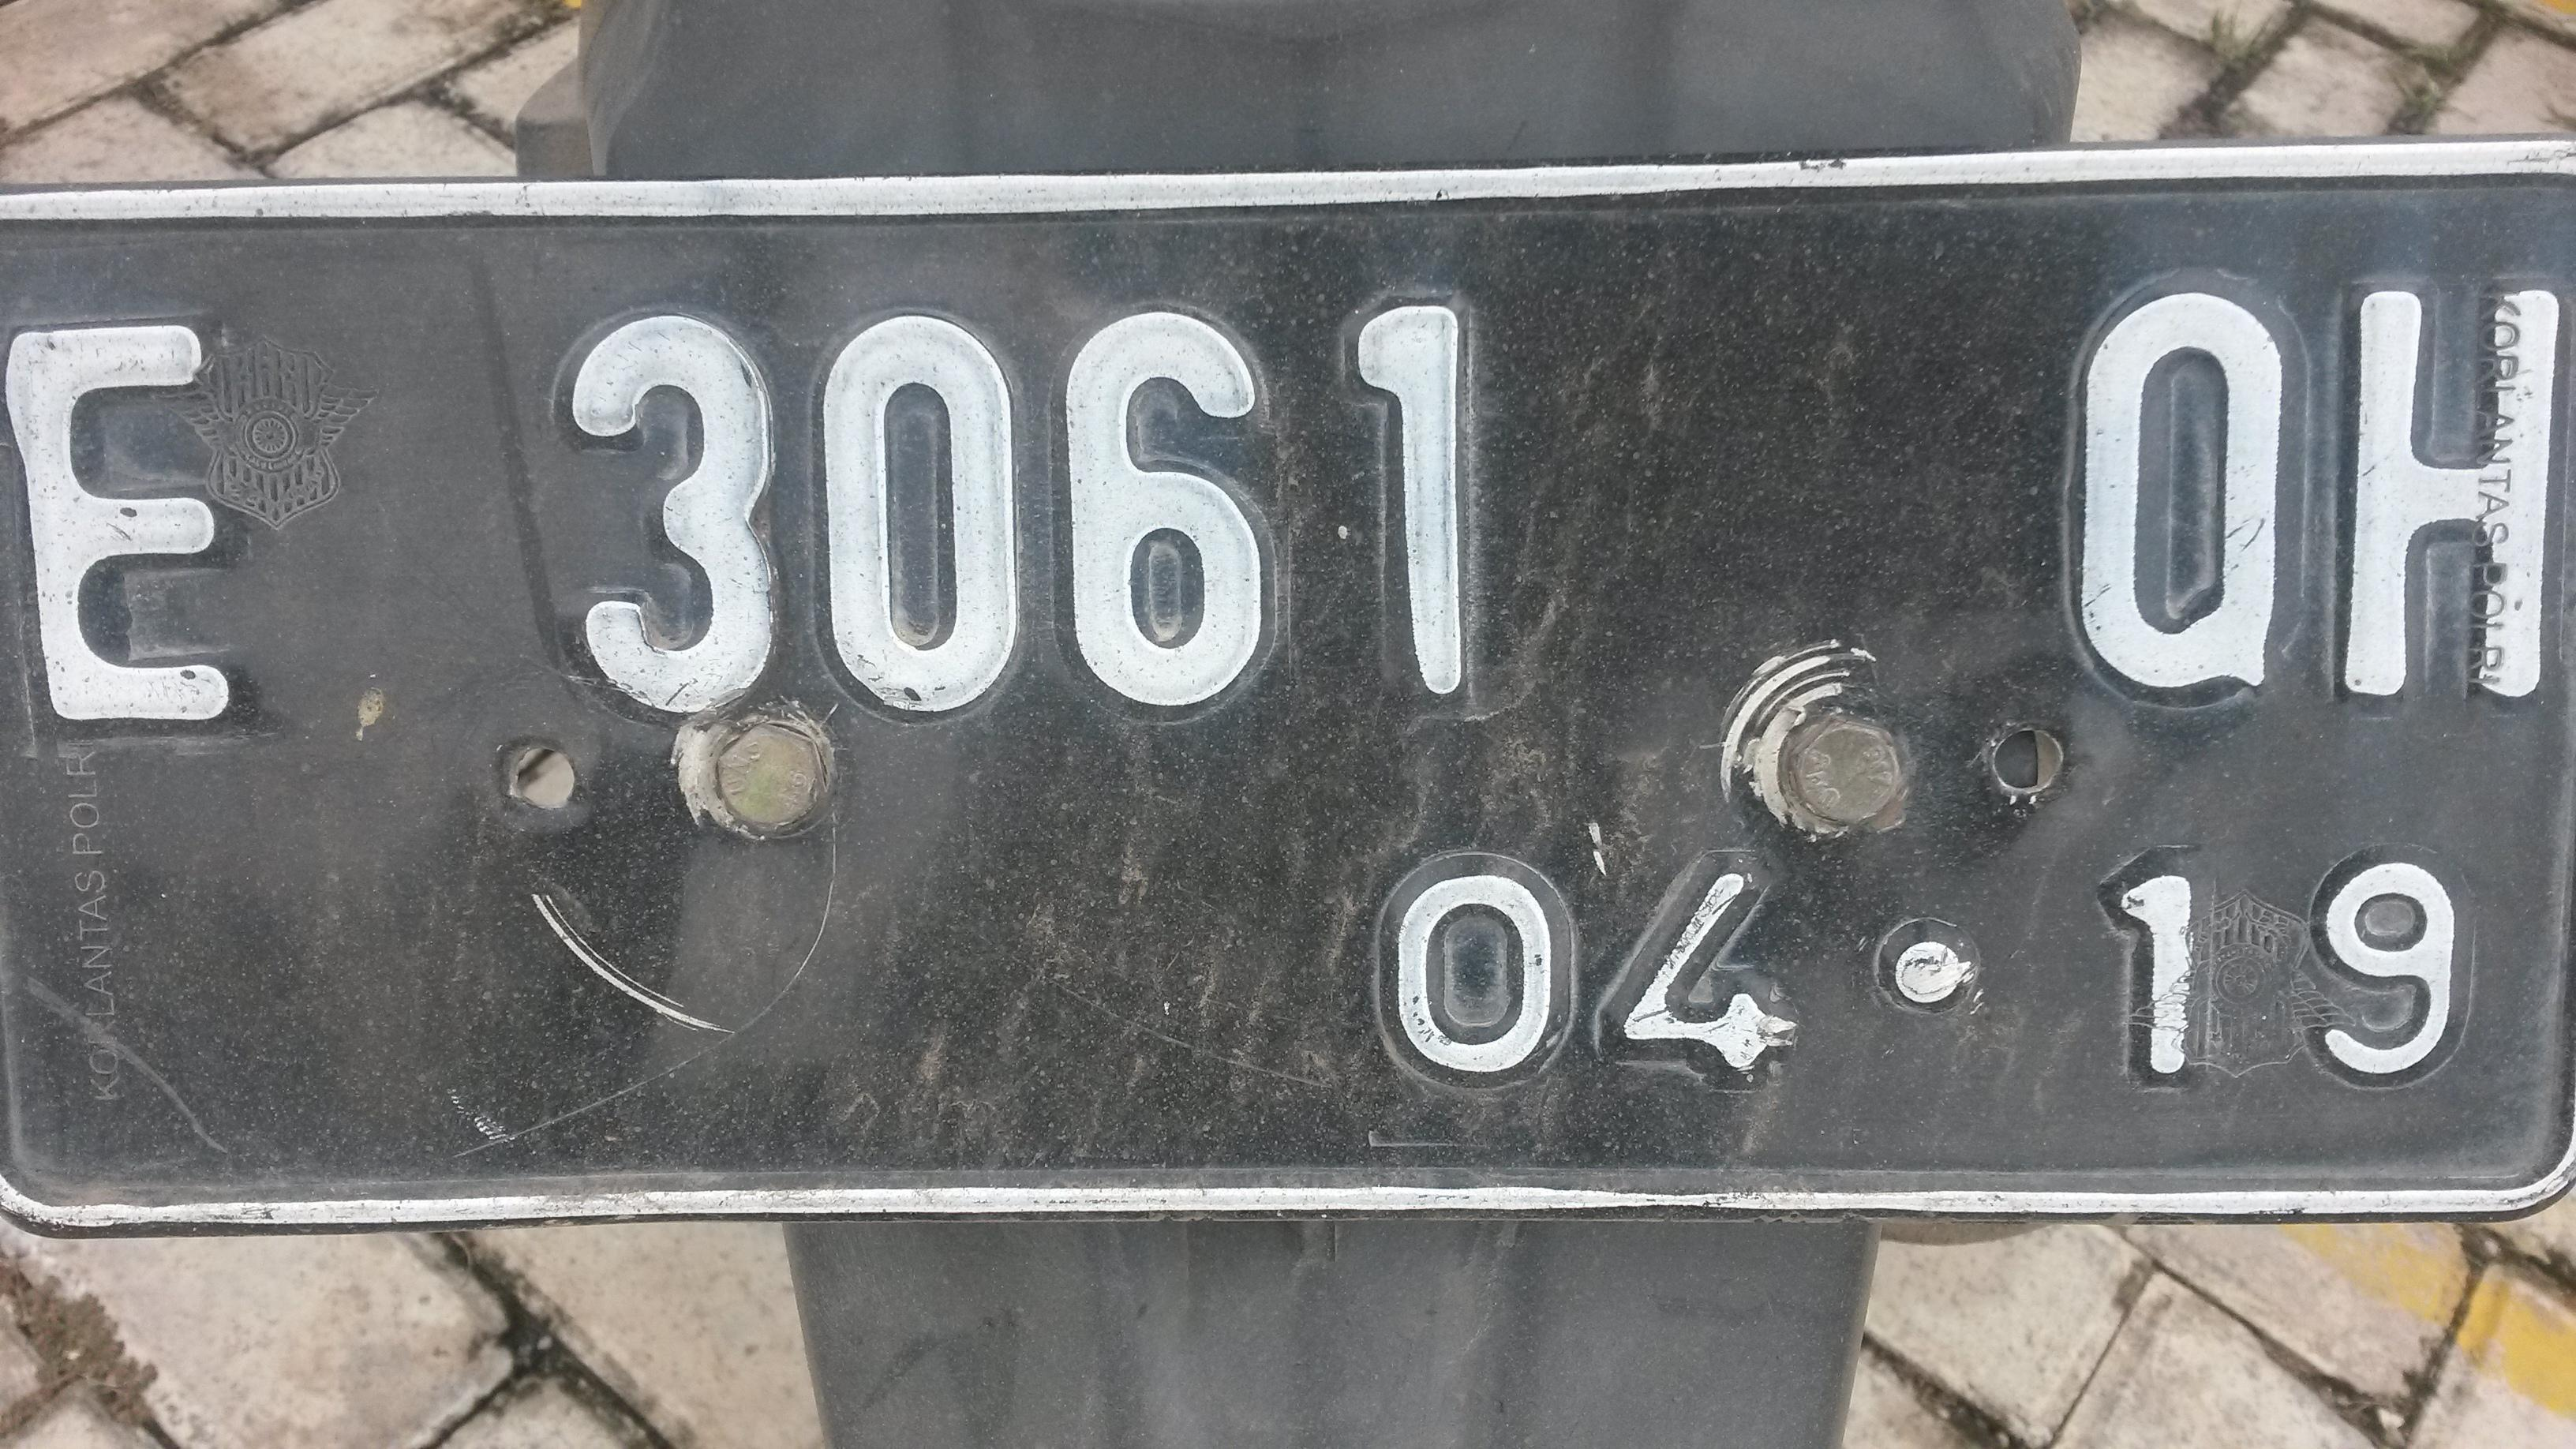0: (787, 294, 1042, 740)
1: (1302, 276, 1555, 732)
3: (517, 288, 807, 725)
6: (1044, 297, 1295, 732)
E: (0, 290, 276, 771)
H: (2300, 253, 2555, 717)
Q: (2042, 267, 2289, 718)
